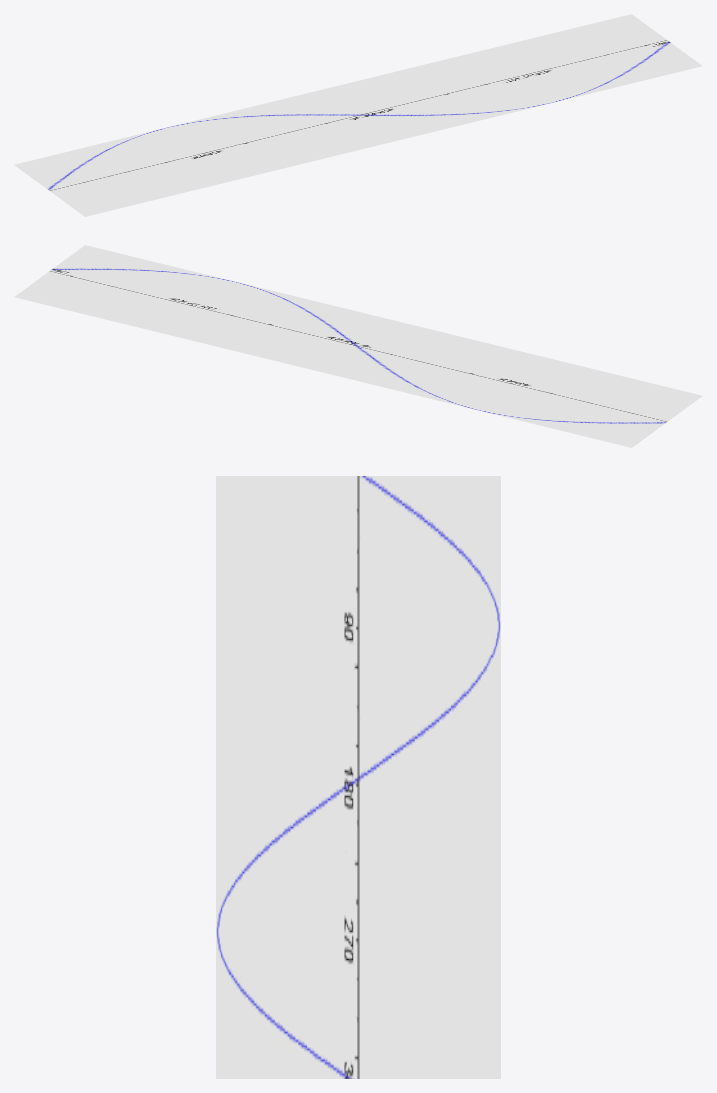
File: graph.obj
The picture shows the model from 3 angles, top to bottom: view 1: azimuth 30°, elevation 25°; view 2: azimuth 150°, elevation 25°; view 3: azimuth 270°, elevation 25°; orthographic projection. The views are drawn at different scales.
Visible parts, largest first — view 1: pPlane1; view 2: pPlane1; view 3: pPlane1.
Part boxes in pixels (left/top/right/bottom): pPlane1: left=14, top=14, right=702, bottom=216; pPlane1: left=14, top=245, right=702, bottom=447; pPlane1: left=216, top=476, right=500, bottom=1078.
Size of the model in its own units: 10 by 0 by 2.
